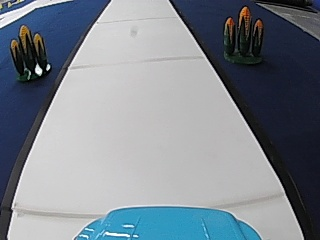corn: (214, 8, 273, 69), (9, 26, 52, 84)
